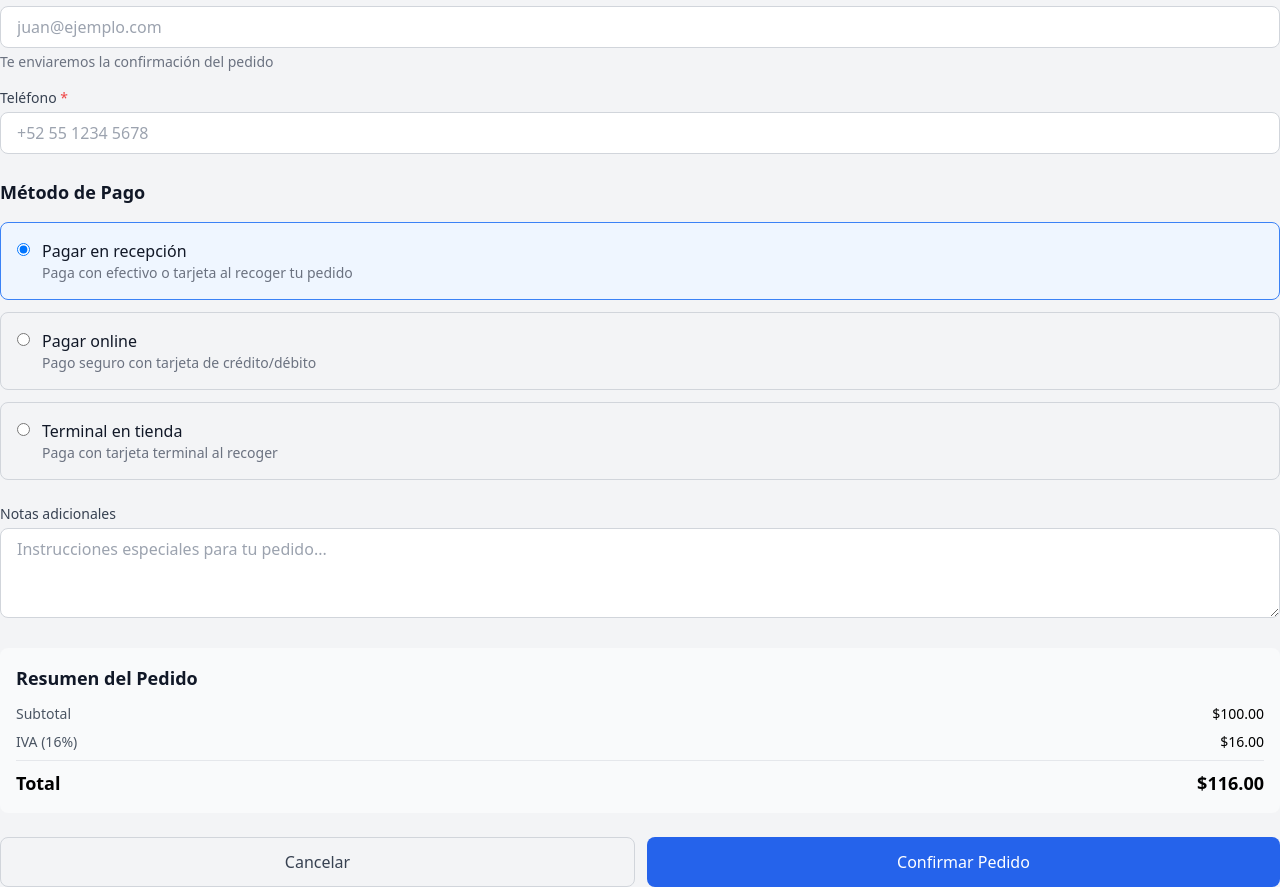
Test: CheckoutForm › should show validation errors for empty fields
The width and height of the screenshot is (1280, 887).
(page scrolled)
Click the button "Confirmar Pedido": (964, 862) top-left (647, 837), bottom-right (1279, 886)
(page scrolled)
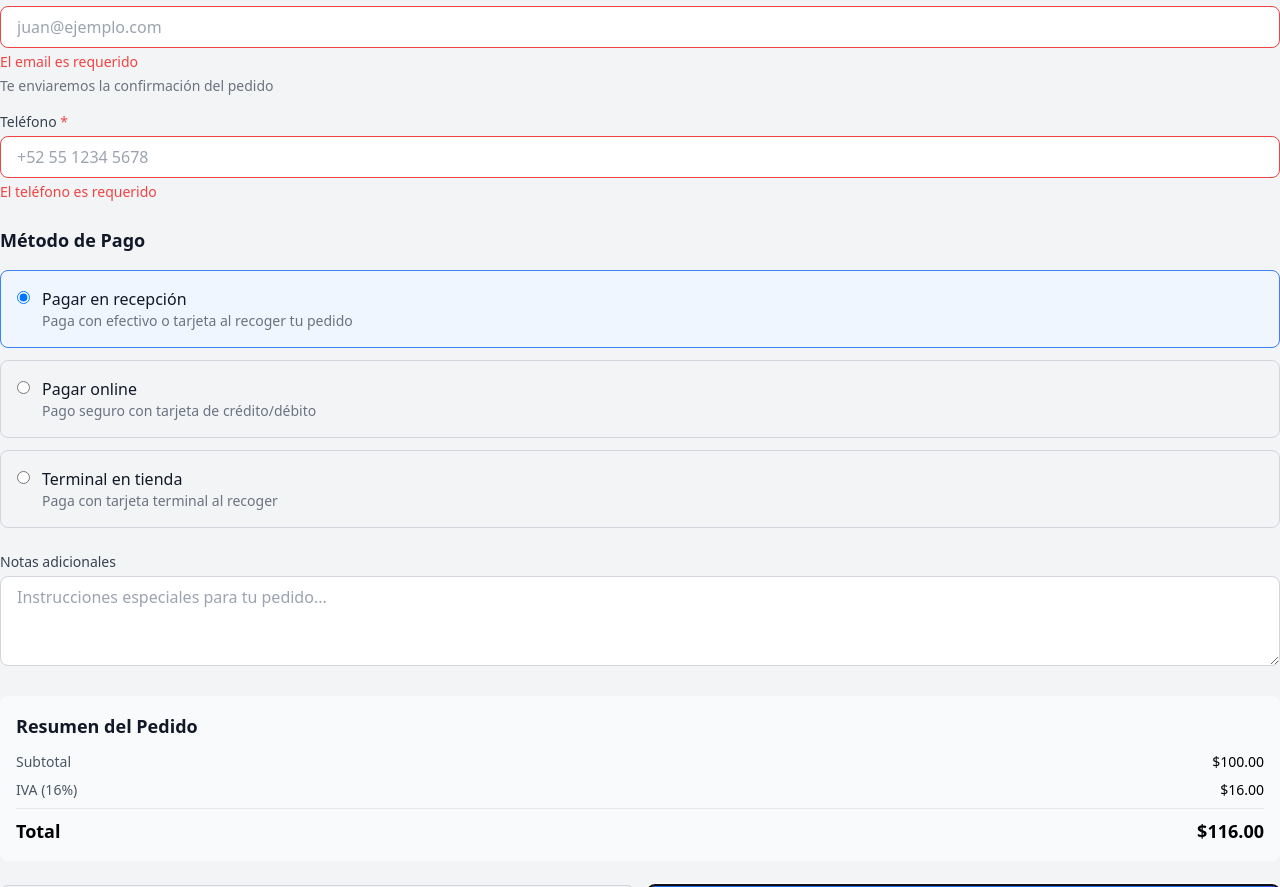
Result: the text "El email es requerido" is shown at top-left (0, 52), bottom-right (138, 71)
Result: the text "El teléfono es requerido" is shown at top-left (0, 182), bottom-right (157, 201)
